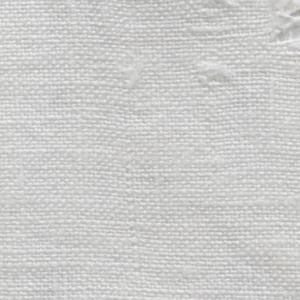Damage: (261, 1, 300, 62), (193, 59, 237, 100)
